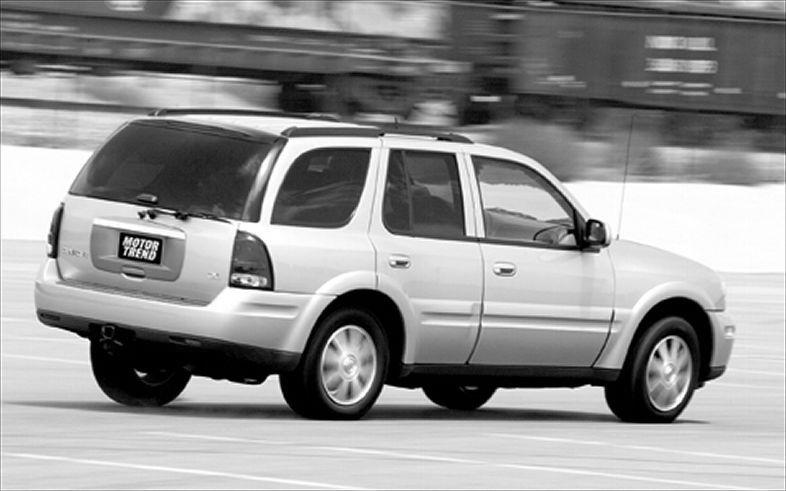car: (30, 99, 743, 427)
